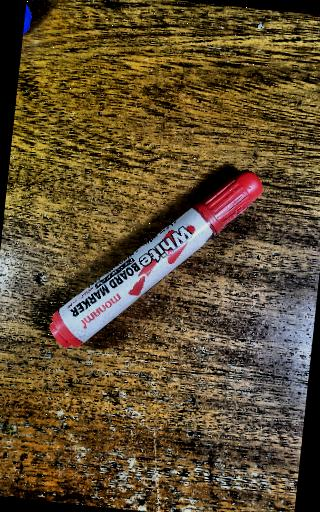marcador rojo: (49, 171, 262, 348)
